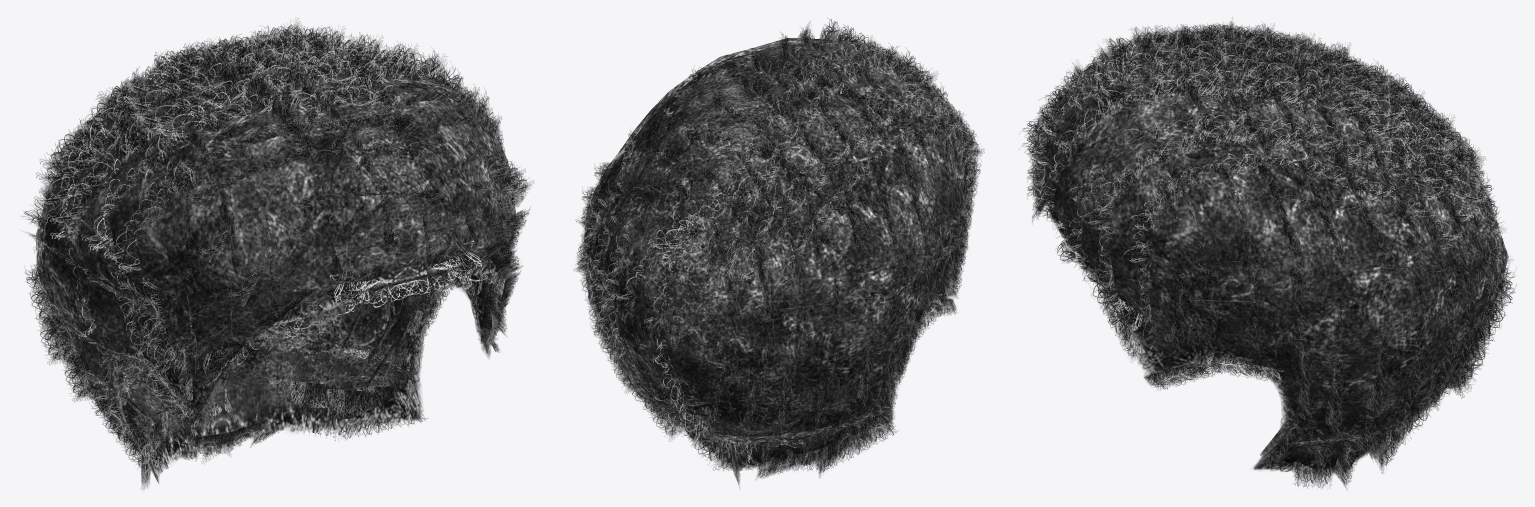
The model's file is hair_afro01.gltf.
The picture shows the model from 3 angles, left to right: view 1: azimuth 30°, elevation 25°; view 2: azimuth 150°, elevation 25°; view 3: azimuth 270°, elevation 25°; orthographic projection. The views are drawn at different scales.
Visible parts, largest first — view 1: hair_afro01; view 2: hair_afro01; view 3: hair_afro01.
Part boxes in pixels (x1,y1,x2,y2): hair_afro01: (20,17,534,489); hair_afro01: (573,18,984,489); hair_afro01: (1019,17,1516,490).
Bounding box in the file's own units: 0.1923 × 0.2054 × 0.2198.
Materials: 1 (1 with a texture image).
